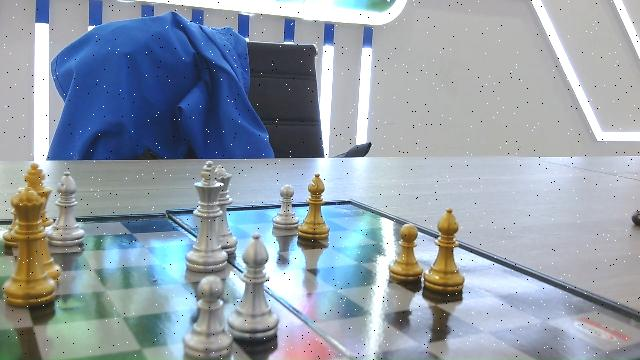black_bishop: (422, 206, 468, 294), (295, 172, 331, 240)
black_pawn: (387, 221, 423, 280)
black_queen: (5, 192, 47, 307)
white_bishop: (229, 232, 281, 342), (52, 171, 87, 249)
white_king: (193, 159, 216, 271)
white_pawn: (185, 273, 231, 355), (272, 183, 299, 234)
white_queen: (216, 163, 238, 255)
